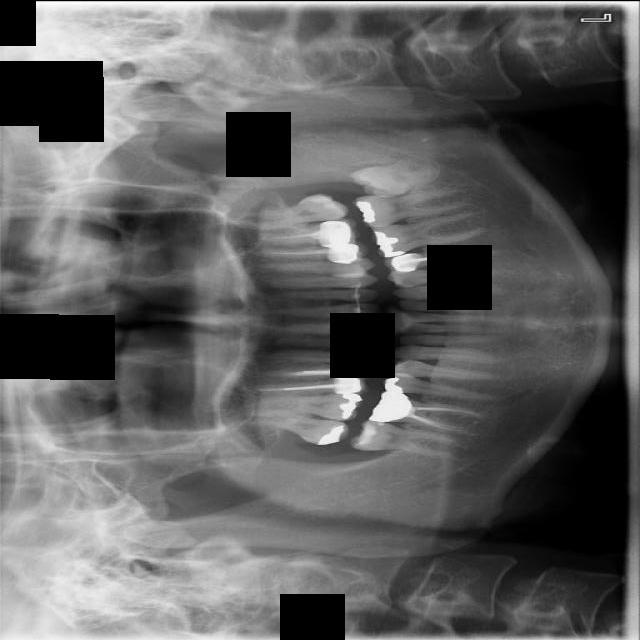52: (350, 183, 401, 236), (365, 213, 416, 263), (368, 384, 417, 434), (348, 414, 399, 457), (295, 414, 352, 448), (296, 191, 351, 221), (318, 216, 360, 249), (318, 391, 365, 420), (381, 249, 421, 276), (329, 240, 369, 263), (333, 359, 372, 380), (382, 372, 420, 393), (333, 376, 369, 395)
73: (399, 397, 483, 436), (248, 218, 322, 246), (249, 378, 334, 401), (261, 362, 337, 387), (415, 247, 505, 267), (254, 243, 331, 265), (590, 33, 602, 39)
BioHorizons Implant: (234, 189, 352, 233)
Biomet 3i Implant: (349, 145, 444, 208)
Blue Sky Bio Implant: (352, 186, 468, 228)
Caries: (239, 401, 353, 450)
Implant: (349, 417, 461, 458)
